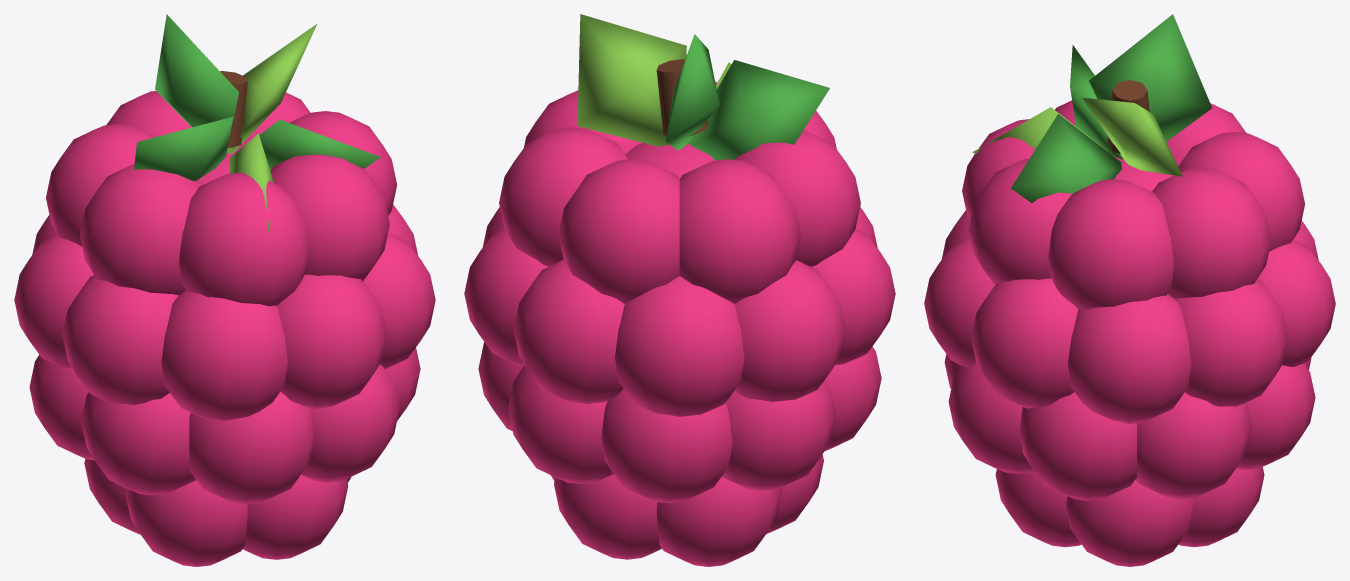
Rendered from berry.glb.
3 renders of one model, left to right at view 1: azimuth 30°, elevation 25°; view 2: azimuth 150°, elevation 25°; view 3: azimuth 270°, elevation 25°, orthographic. The views are drawn at different scales.
Visible parts, largest first — view 1: berry-berry, berry-leaf, berry-leafLight, berry-stem; view 2: berry-berry, berry-leaf, berry-leafLight, berry-stem; view 3: berry-berry, berry-leaf, berry-leafLight, berry-stem.
Part boxes in pixels (x1,y1,x2,y2): berry-berry: (14,91,435,566); berry-leaf: (134,14,380,180); berry-leafLight: (227,23,317,231); berry-stem: (215,71,247,147); berry-berry: (464,81,895,566); berry-leaf: (665,34,829,160); berry-leafLight: (577,14,731,146); berry-stem: (656,59,708,135); berry-berry: (924,100,1335,566); berry-leaf: (1011,14,1211,202); berry-leafLight: (972,97,1182,176); berry-stem: (1107,80,1149,153).
Bounding box in the file's own units: 1.63 × 2.21 × 1.64.
